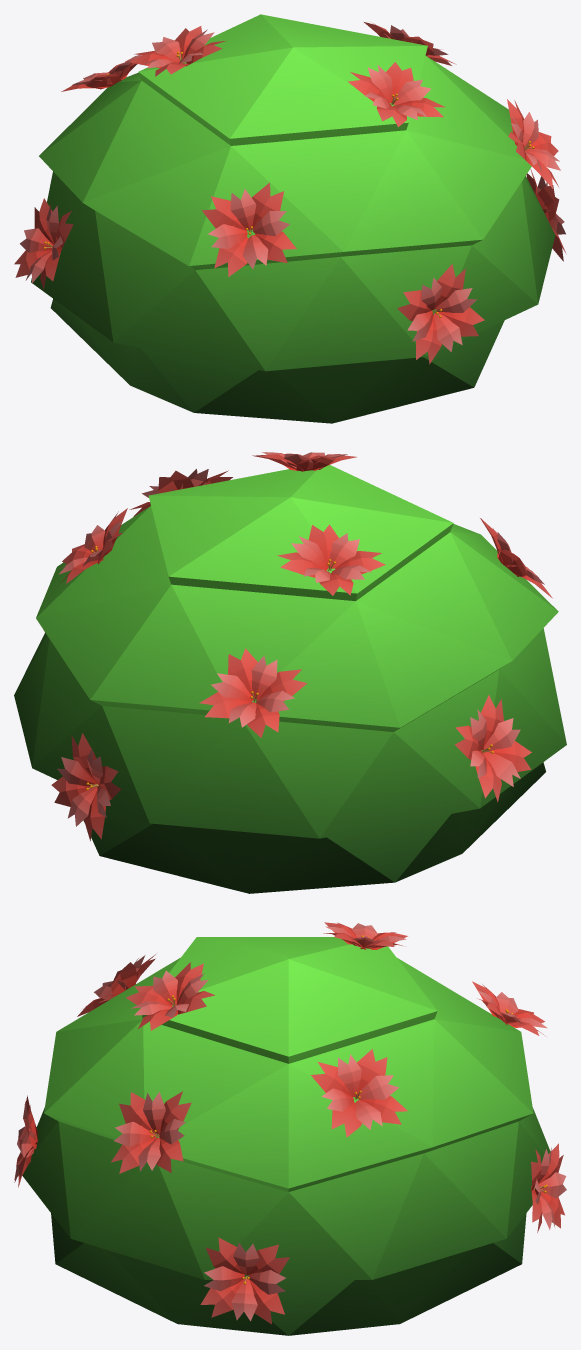
Rendered from Raven_Bush.fbx.
3 renders of one model, top to bottom at view 1: azimuth 30°, elevation 25°; view 2: azimuth 150°, elevation 25°; view 3: azimuth 270°, elevation 25°, orthographic. The views are drawn at different scales.
Visible parts, largest first — view 1: Leaves, Icosphere.005, Icosphere.010, Icosphere.002, Icosphere.004, Icosphere.007, Icosphere.006, Icosphere.009, Icosphere.003, Icosphere.001; view 2: Leaves, Icosphere.003, Icosphere.004, Icosphere.007, Icosphere.008, Icosphere.001, Icosphere.006, Icosphere.002, Icosphere.005; view 3: Leaves, Icosphere.009, Icosphere.001, Icosphere.006, Icosphere.002, Icosphere.008, Icosphere.003, Icosphere.007, Icosphere.005, Icosphere.010.
Boxes of the visible parts, bbox=[...] form: Leaves: bbox=[31, 14, 555, 423]; Icosphere.005: bbox=[202, 182, 296, 276]; Icosphere.010: bbox=[397, 264, 484, 364]; Icosphere.002: bbox=[348, 62, 445, 127]; Icosphere.004: bbox=[14, 198, 73, 289]; Icosphere.007: bbox=[129, 26, 226, 76]; Icosphere.006: bbox=[507, 99, 560, 188]; Icosphere.009: bbox=[526, 169, 566, 261]; Icosphere.003: bbox=[61, 55, 140, 91]; Icosphere.001: bbox=[364, 22, 456, 65]; Leaves: bbox=[14, 465, 566, 893]; Icosphere.003: bbox=[199, 648, 307, 737]; Icosphere.004: bbox=[455, 695, 531, 802]; Icosphere.007: bbox=[277, 524, 385, 595]; Icosphere.008: bbox=[51, 733, 121, 841]; Icosphere.001: bbox=[58, 508, 127, 583]; Icosphere.006: bbox=[129, 469, 232, 516]; Icosphere.002: bbox=[252, 452, 356, 471]; Icosphere.005: bbox=[480, 518, 552, 598]; Leaves: bbox=[22, 937, 550, 1335]; Icosphere.009: bbox=[200, 1237, 289, 1324]; Icosphere.001: bbox=[311, 1049, 407, 1137]; Icosphere.006: bbox=[111, 1091, 191, 1173]; Icosphere.002: bbox=[126, 962, 214, 1030]; Icosphere.008: bbox=[531, 1143, 566, 1232]; Icosphere.003: bbox=[472, 981, 547, 1035]; Icosphere.007: bbox=[323, 922, 407, 949]; Icosphere.005: bbox=[77, 954, 155, 1016]; Icosphere.010: bbox=[14, 1095, 37, 1187].
Bounding box in the file's own units: 164 × 98.79 × 163.
4 materials, 2 textured.
